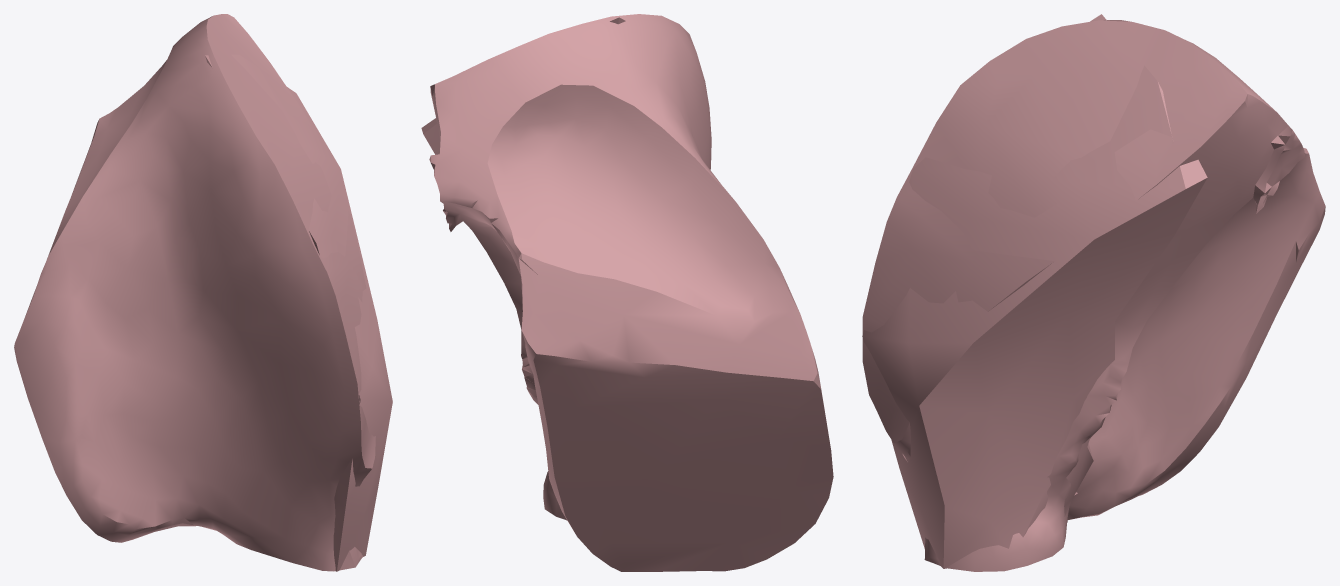
File: fma75351-l_mm3066.glb
3 renders of one model, left to right at view 1: azimuth 30°, elevation 25°; view 2: azimuth 150°, elevation 25°; view 3: azimuth 270°, elevation 25°, orthographic. The views are drawn at different scales.
Visible parts, largest first — view 1: FMA75351-L_MM3066; view 2: FMA75351-L_MM3066; view 3: FMA75351-L_MM3066.
Part boxes in pixels (<box>): FMA75351-L_MM3066: <box>14,14,392,571</box>; FMA75351-L_MM3066: <box>421,14,833,571</box>; FMA75351-L_MM3066: <box>862,14,1325,571</box>.
Size of the model in its own units: 0.00331 by 0.00476 by 0.00391.
